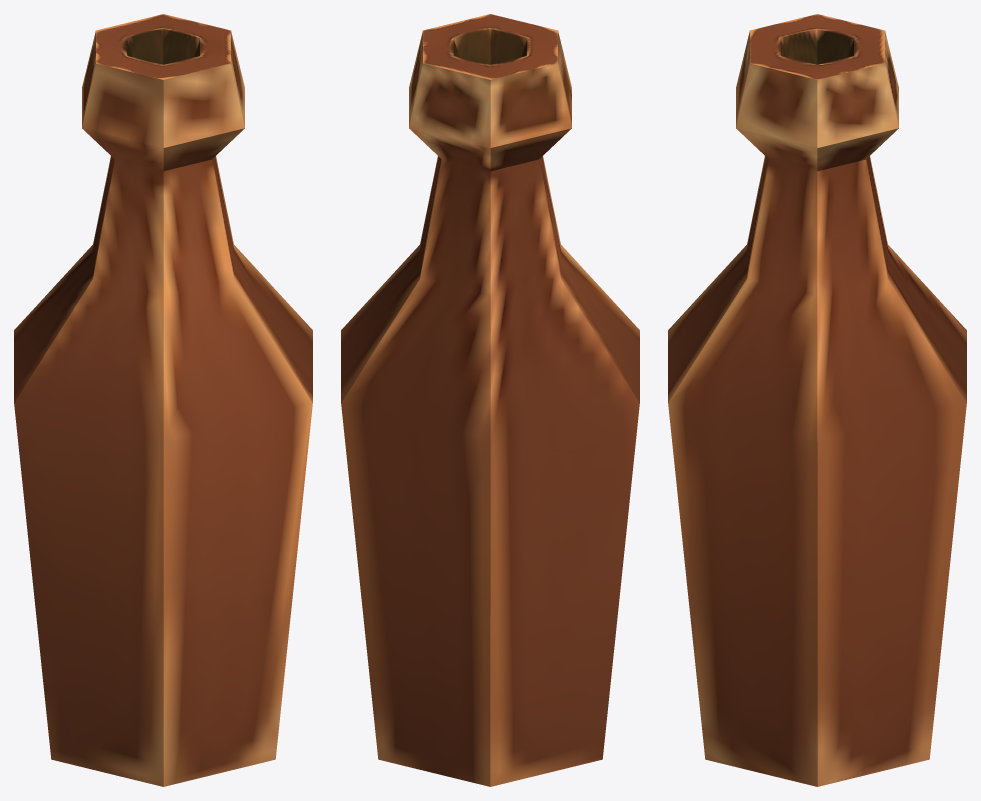
File: Rome_Village_Props_09.FBX
3 views of the same model, side by side, from view 1: azimuth 30°, elevation 25°; view 2: azimuth 150°, elevation 25°; view 3: azimuth 270°, elevation 25° (orthographic).
Visible parts, largest first — view 1: Rome_Village_Props_09; view 2: Rome_Village_Props_09; view 3: Rome_Village_Props_09.
Boxes of the visible parts, <box> form: Rome_Village_Props_09: <box>14,14,312,786</box>; Rome_Village_Props_09: <box>341,14,639,786</box>; Rome_Village_Props_09: <box>668,14,966,786</box>.
Size of the model in its own units: 30.23 by 66.24 by 26.18.
